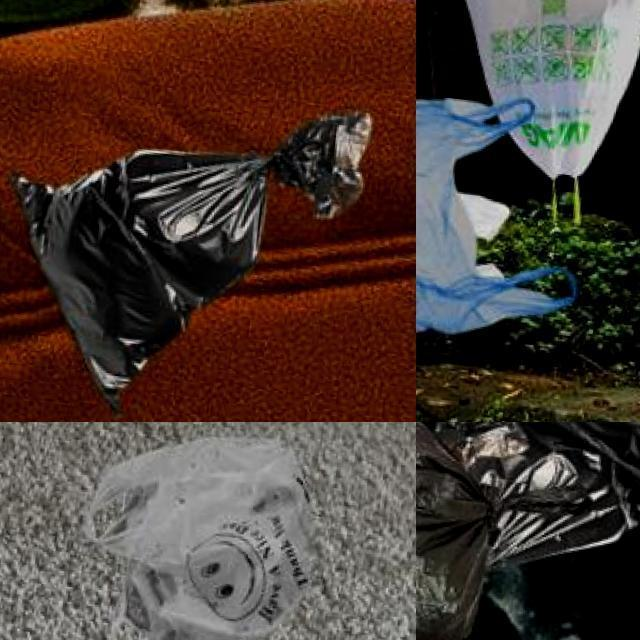waste: (2, 114, 274, 408), (68, 422, 331, 640), (416, 73, 595, 361), (429, 0, 640, 180), (457, 422, 640, 580), (416, 422, 510, 640)
